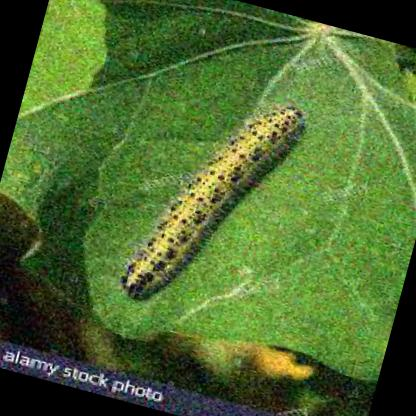pieris: (123, 108, 306, 304)
